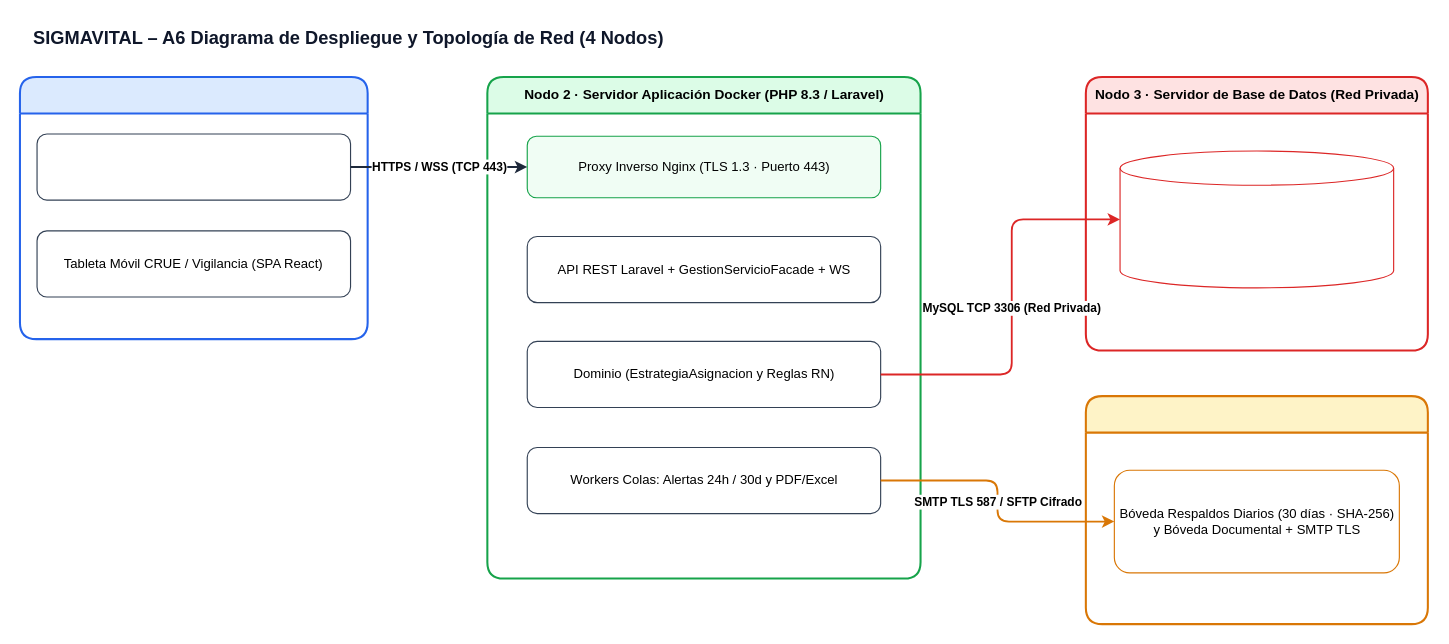
Some shapes in this 1449 by 644 pixel diagram are drawn without their labels. Here are the shapes that lost their labels. From the top down, the box of each, then its label:
(36, 133, 351, 200): Navegador Web (Chrome / Edge / Firefox / Safari)
(18, 75, 368, 340): Nodo 1 · Cliente Operativo y Ciudadano
(1119, 150, 1394, 288): Motor MySQL 8.0 / MariaDB InnoDB (25 Tablas 3FN · Cifrado Reposo Ley 1581)
(1084, 395, 1428, 625): Nodo 4 · Almacenamiento Externo y Mensajería
